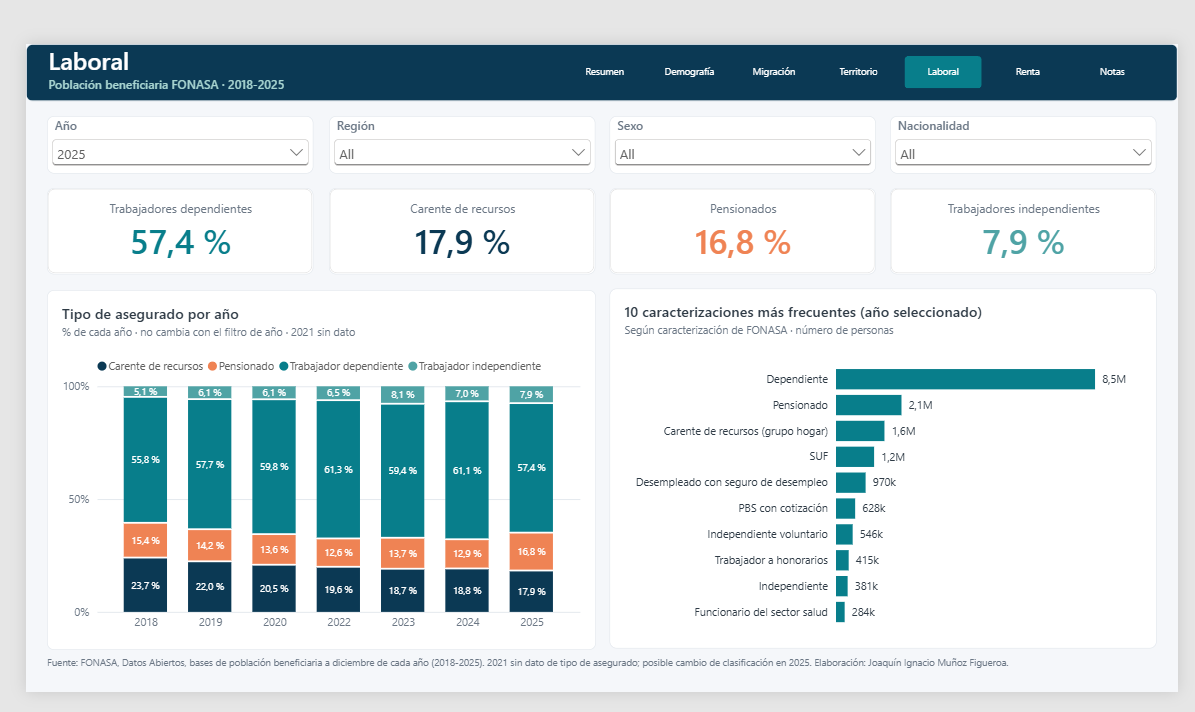

What the dashboard file says about the page in this screenshot:
{"tool":"powerbi","page":{"name":"Laboral","canvas":[1280,720],"ordinal":4},"visuals":[{"type":"shape","box":[0,0,1280,64],"z":0},{"type":"textbox","title":"Resumen","box":[24.6,0,559.4,64.3],"z":1000},{"type":"pageNavigator","box":[600,14,656,36],"z":2000},{"type":"textbox","title":"Fuente: FONASA, Datos Abiertos, bases de población beneficiaria a diciembre de cada año (2018-2025). 2021 sin dato de tipo de asegurado; posible cambio de clasificación en 2025. Elaboración: Joaquín I","box":[24,680,1232,28],"z":3000},{"type":"slicer","fields":{"Values":["Fonasa.anio"]},"box":[24,80,296,64],"z":4000},{"type":"slicer","fields":{"Values":["Fonasa.Región"]},"box":[336,80,296,64],"z":5000},{"type":"slicer","fields":{"Values":["Fonasa.sexo"]},"box":[648,80,296,64],"z":6000},{"type":"slicer","fields":{"Values":["Fonasa.nacionalidad"]},"box":[960,80,296,64],"z":7000},{"type":"cardVisual","fields":{"Data":["Measures Table (DAX).%_Beneficiario_Trabajador_Dependiente"]},"box":[24,160,296,96],"z":8000},{"type":"cardVisual","fields":{"Data":["Measures Table (DAX).%_Beneficiario_Carente_De_Recursos"]},"box":[336,160,296,96],"z":9000},{"type":"cardVisual","fields":{"Data":["Measures Table (DAX).%_Beneficiario_Pensionado"]},"box":[648,160,296,96],"z":10000},{"type":"cardVisual","fields":{"Data":["Measures Table (DAX).%_Beneficiario_Trabajador_Independiente"]},"box":[960,160,296,96],"z":11000},{"type":"hundredPercentStackedColumnChart","title":"Tipo de asegurado por año","fields":{"Category":["Fonasa.anio"],"Series":["Fonasa.tipo_asegurado"],"Y":["Measures Table (DAX).% del año (tipo asegurado)"]},"box":[23.3,273.3,610,400],"z":13000},{"type":"barChart","title":"10 caracterizaciones más frecuentes (año seleccionado)","fields":{"Category":["Fonasa.caracterización"],"Y":["Measures Table (DAX).Beneficiarios (gráfico)"]},"box":[648,272,608,400],"z":13001}]}

Visuals, with their boxes on the page's 1280x720 design canvas (x1, y1, x2, y2). These are canvas units, not pixel positions in the 1195x712 screenshot, which may show the page scaled, cropped or inside an application window:
shape: (0,0,1280,64)
"Resumen" textbox: (25,0,584,64)
pageNavigator: (600,14,1256,50)
"Fuente: FONASA, Datos Abiertos, bases de población beneficiaria a diciembre de cada año (2018-2025). 2021 sin dato de tipo de asegurado; posible cambio de clasificación en 2025. Elaboración: Joaquín I" textbox: (24,680,1256,708)
slicer - Fonasa.anio: (24,80,320,144)
slicer - Fonasa.Región: (336,80,632,144)
slicer - Fonasa.sexo: (648,80,944,144)
slicer - Fonasa.nacionalidad: (960,80,1256,144)
cardVisual - Measures Table (DAX).%_Beneficiario_Trabajador_Dependiente: (24,160,320,256)
cardVisual - Measures Table (DAX).%_Beneficiario_Carente_De_Recursos: (336,160,632,256)
cardVisual - Measures Table (DAX).%_Beneficiario_Pensionado: (648,160,944,256)
cardVisual - Measures Table (DAX).%_Beneficiario_Trabajador_Independiente: (960,160,1256,256)
"Tipo de asegurado por año" hundredPercentStackedColumnChart: (23,273,633,673)
"10 caracterizaciones más frecuentes (año seleccionado)" barChart: (648,272,1256,672)
